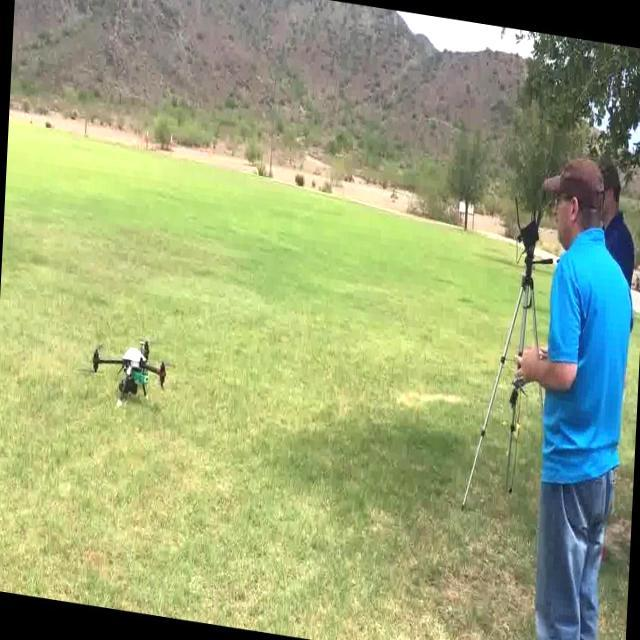drone: (90, 324, 172, 410)
